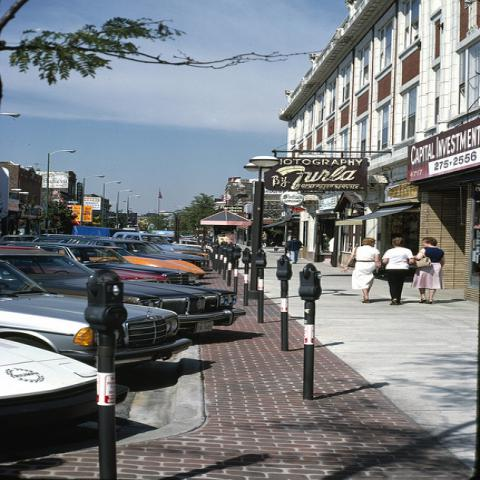car: (0, 246, 250, 337), (0, 258, 191, 374), (0, 337, 103, 443), (2, 243, 196, 286), (77, 237, 207, 280), (94, 244, 196, 278), (140, 241, 211, 271), (111, 232, 198, 254), (170, 244, 205, 254), (189, 238, 199, 245)
